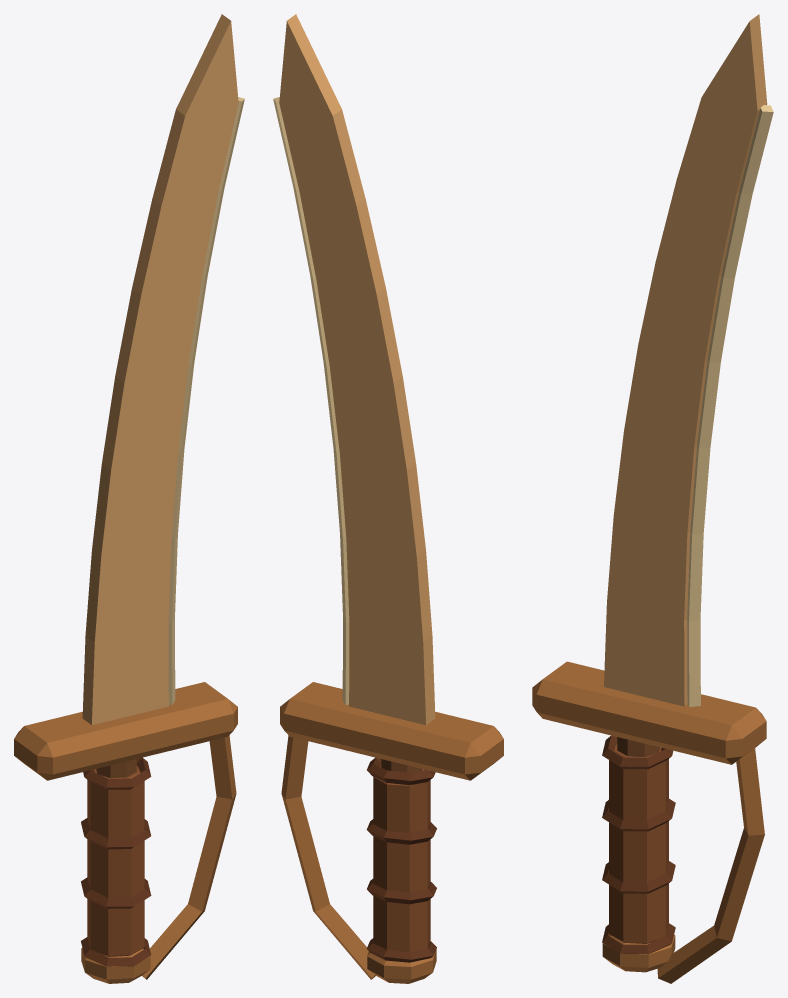
The model's file is WoodCutlass.fbx.
3 renders of one model, left to right at view 1: azimuth 30°, elevation 25°; view 2: azimuth 150°, elevation 25°; view 3: azimuth 330°, elevation 25°, orthographic. The views are drawn at different scales.
Visible parts, largest first — view 1: WoodCutlass; view 2: WoodCutlass; view 3: WoodCutlass.
Boxes of the visible parts, x1=… form: WoodCutlass: x1=14, y1=14, x2=244, y2=983; WoodCutlass: x1=273, y1=14, x2=503, y2=983; WoodCutlass: x1=532, y1=14, x2=773, y2=983.
Size of the model in its own units: 1.09 by 4.49 by 0.3129.
1 material, 1 textured.
